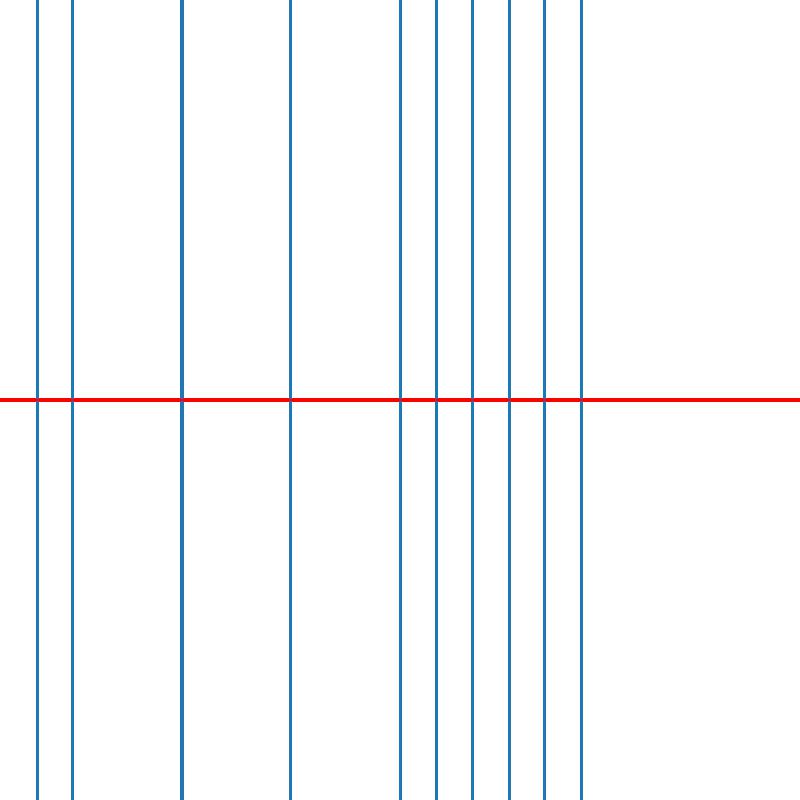root: (541, 396, 549, 404), (32, 396, 40, 404), (432, 396, 440, 404), (396, 396, 403, 404), (287, 396, 294, 404), (578, 396, 585, 404), (469, 396, 476, 404), (178, 396, 185, 404), (505, 396, 512, 404), (69, 396, 76, 404)
